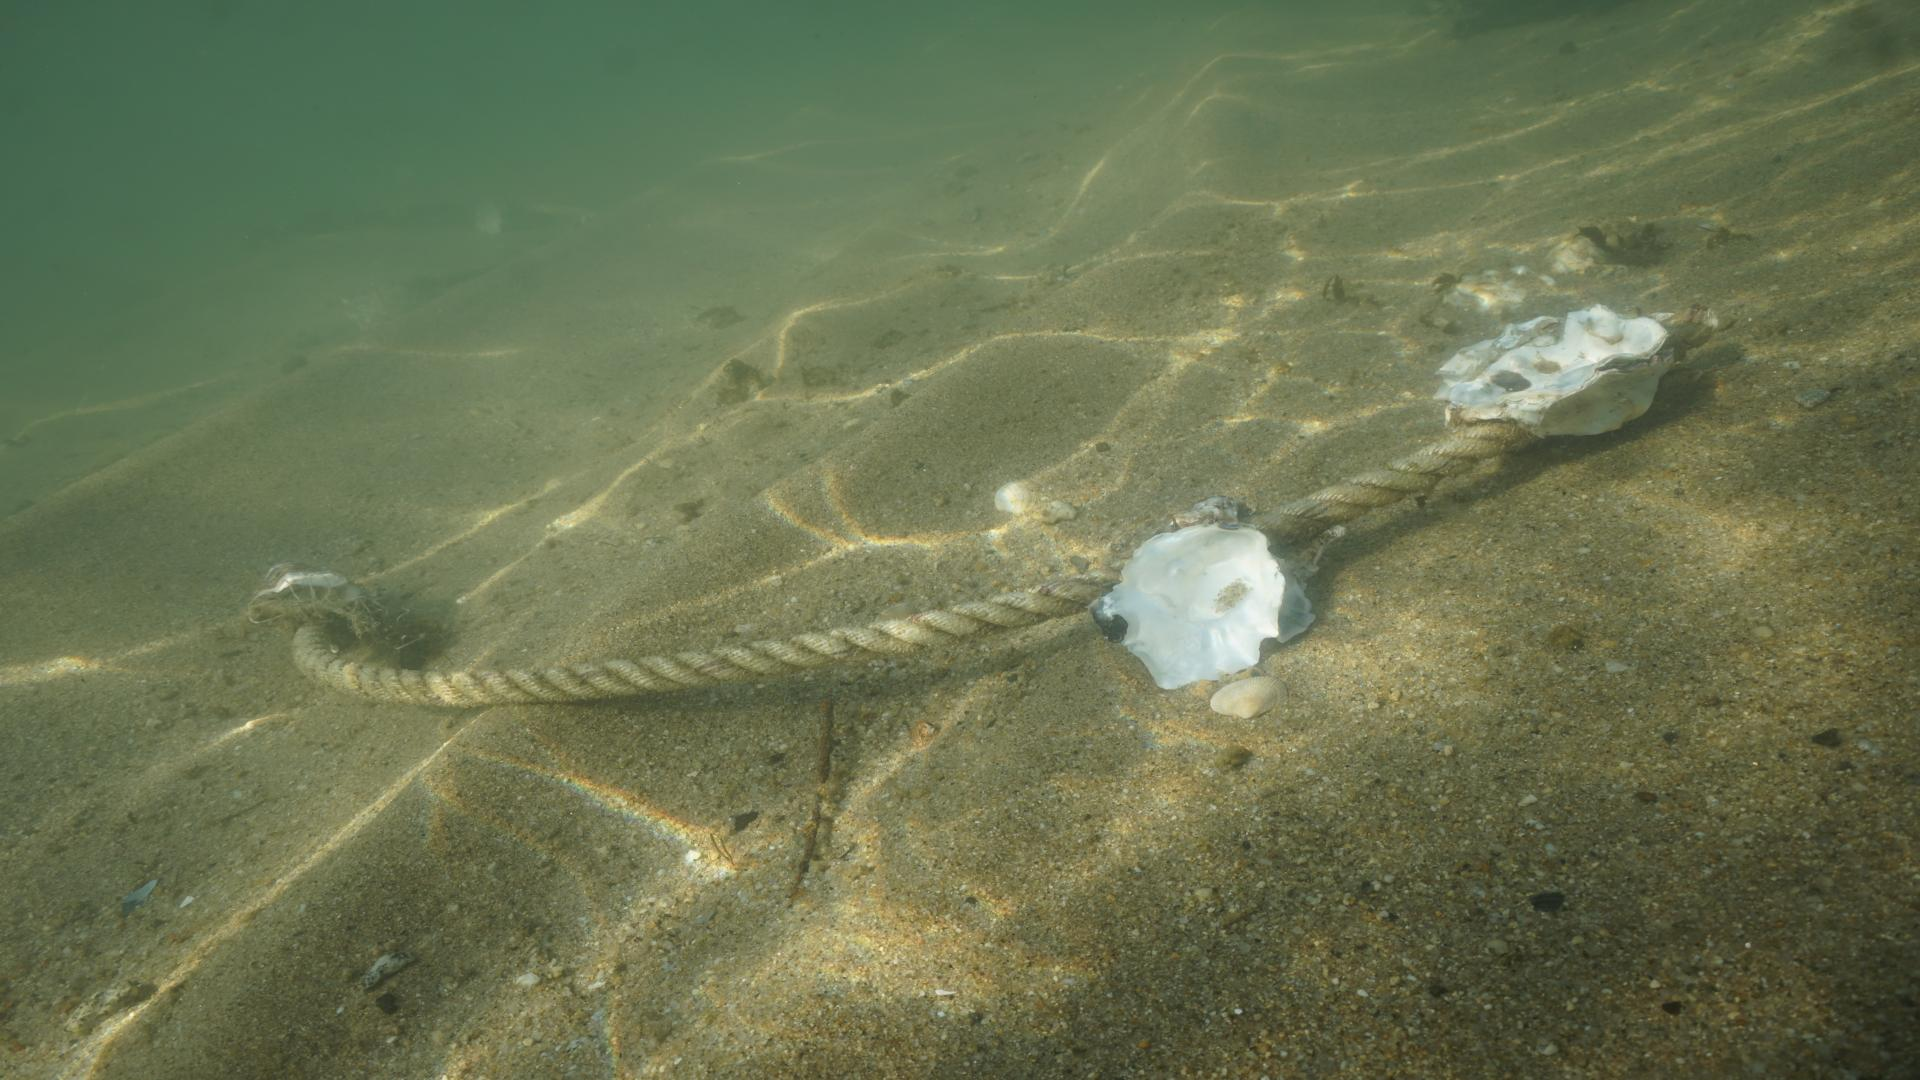rope: (280, 297, 1698, 705)
